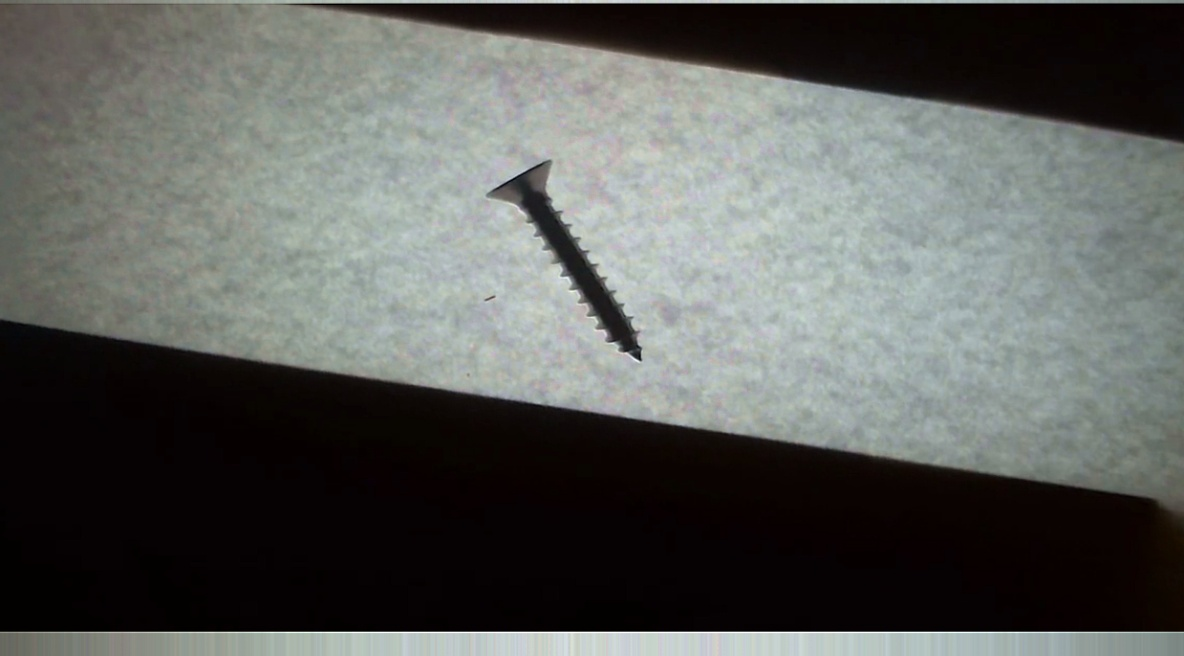S001: (467, 141, 676, 375)
